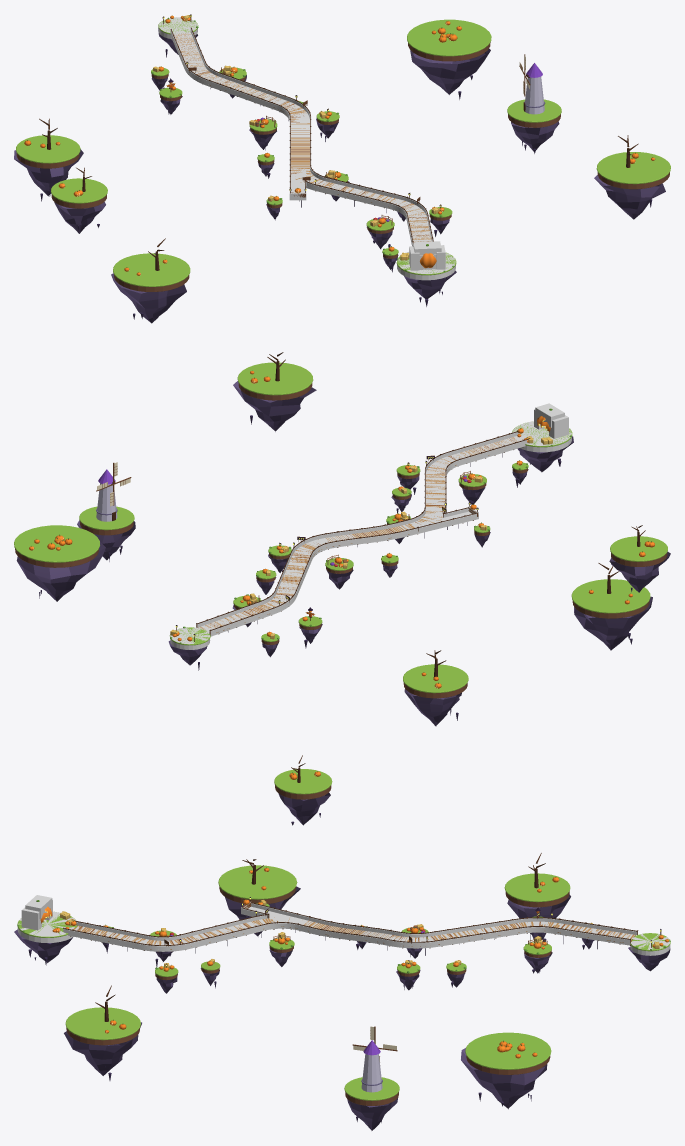
3 views of the same model, one above another, from view 1: azimuth 30°, elevation 25°; view 2: azimuth 150°, elevation 25°; view 3: azimuth 270°, elevation 25° (orthographic).
Parts seen in each view (by area): view 1: V_grass, V_rock, C_0, V_dirt, V_plank, V_beam_dark, V_pumpkin, C_1, V_stone_light, V_plank_dark, V_hay; view 2: V_grass, V_rock, C_0, V_dirt, V_beam_dark, V_plank, V_pumpkin, C_1, V_hay; view 3: V_grass, C_0, V_rock, V_dirt, V_beam_dark, V_plank, V_pumpkin, C_1, V_stone_light.
Part boxes in pixels (x1,y1,x2,y2): V_grass: [16, 17, 670, 286]; V_rock: [14, 28, 665, 323]; C_0: [158, 17, 455, 280]; V_dirt: [16, 42, 669, 291]; V_plank: [172, 33, 431, 241]; V_beam_dark: [39, 14, 638, 270]; V_pumpkin: [24, 15, 655, 275]; C_1: [409, 241, 445, 270]; V_stone_light: [525, 76, 544, 114]; V_plank_dark: [179, 33, 429, 242]; V_hay: [153, 15, 439, 260]; V_grass: [14, 362, 667, 693]; V_rock: [16, 381, 670, 726]; C_0: [170, 421, 571, 649]; V_dirt: [15, 383, 667, 698]; V_beam_dark: [112, 352, 645, 677]; V_plank: [200, 437, 517, 632]; V_pumpkin: [29, 371, 654, 688]; C_1: [534, 403, 568, 438]; V_hay: [170, 436, 552, 639]; V_grass: [17, 769, 670, 1100]; C_0: [17, 902, 670, 955]; V_rock: [14, 792, 670, 1130]; V_dirt: [66, 785, 569, 1105]; V_beam_dark: [63, 755, 661, 1021]; V_plank: [73, 917, 634, 949]; V_pumpkin: [40, 771, 668, 1058]; C_1: [21, 895, 52, 930]; V_stone_light: [361, 1054, 382, 1092].
Bounding box in the file's own units: 127 × 34.46 × 132.
